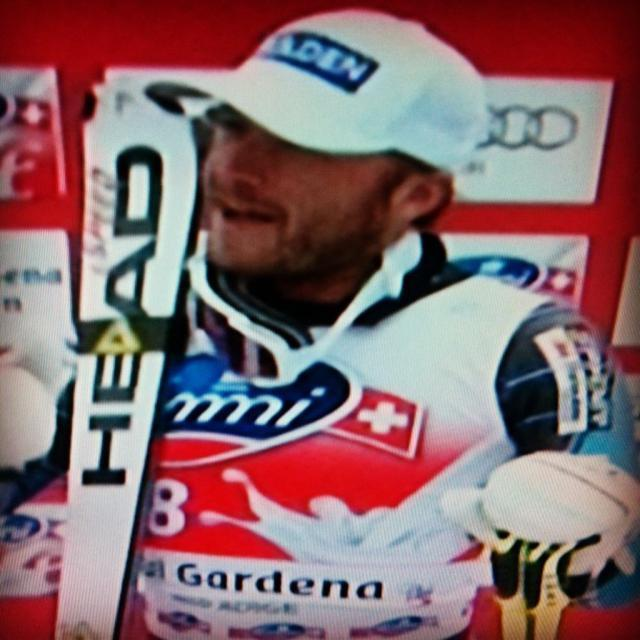ball: (474, 451, 639, 547)
